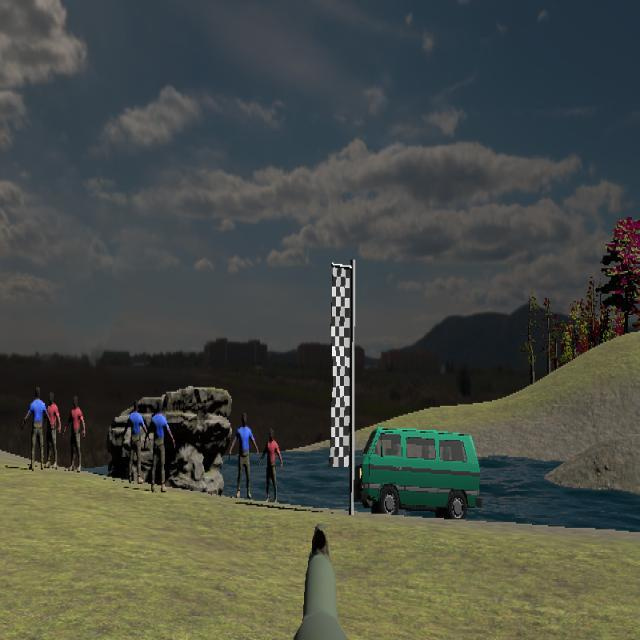Human: (145, 398, 178, 493), (229, 412, 259, 500), (22, 386, 51, 469), (122, 400, 149, 486), (259, 428, 283, 506), (64, 395, 86, 473), (40, 392, 61, 469)
car: (357, 427, 481, 519)
